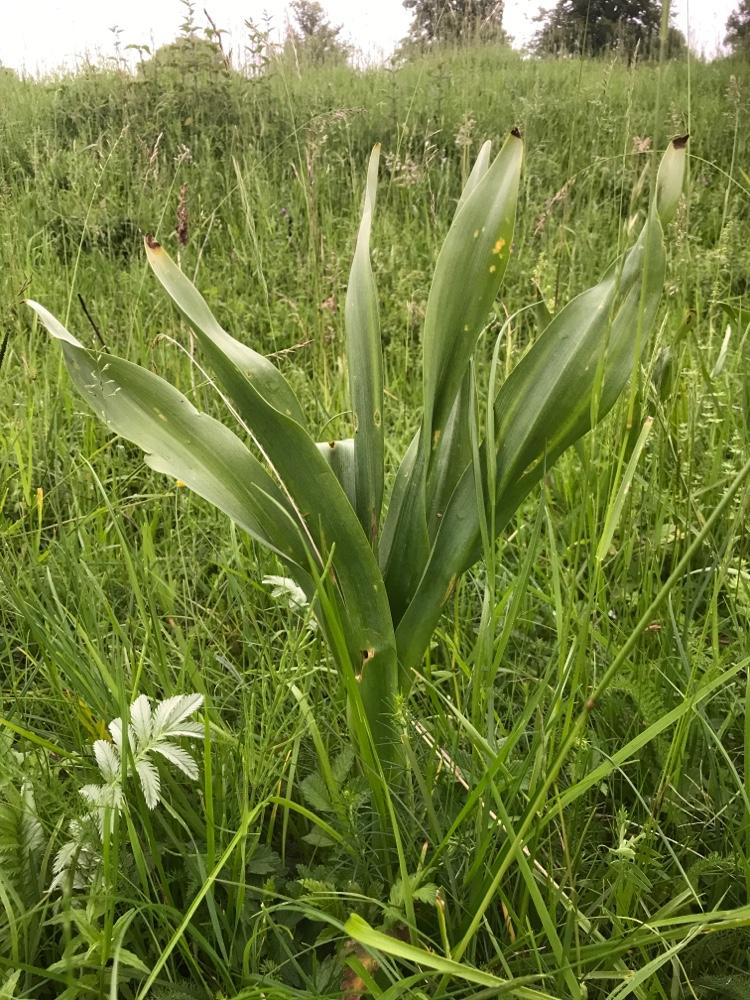Colchicum autumnale L: (69, 136, 698, 839)
